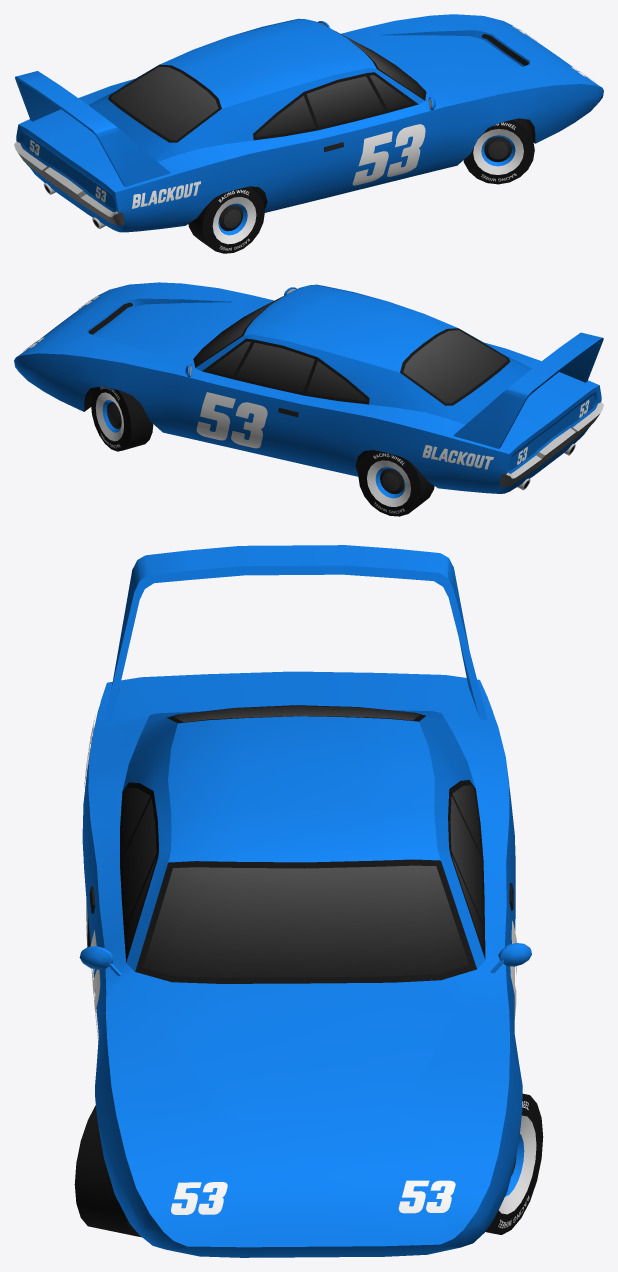
The model's file is RaceCar_018.glb.
3 renders of one model, top to bottom at view 1: azimuth 30°, elevation 25°; view 2: azimuth 150°, elevation 25°; view 3: azimuth 270°, elevation 25°, orthographic. The views are drawn at different scales.
Parts seen in each view (by area): view 1: RaceCar_018, wheel_3_RaceCar_018_Wheel_2R, wheel_1_RaceCar_018_Wheel_1R; view 2: RaceCar_018, wheel_2_RaceCar_018_Wheel_2L, wheel_0_RaceCar_018_Wheel_1L; view 3: RaceCar_018, wheel_1_RaceCar_018_Wheel_1R, wheel_0_RaceCar_018_Wheel_1L.
Part boxes in pixels (box(x1,y1,x2,y2)): RaceCar_018: box(14, 14, 603, 250); wheel_3_RaceCar_018_Wheel_2R: box(188, 186, 264, 253); wheel_1_RaceCar_018_Wheel_1R: box(463, 118, 534, 184); RaceCar_018: box(14, 282, 603, 513); wheel_2_RaceCar_018_Wheel_2L: box(358, 450, 434, 516); wheel_0_RaceCar_018_Wheel_1L: box(91, 386, 153, 451); RaceCar_018: box(79, 545, 531, 1257); wheel_1_RaceCar_018_Wheel_1R: box(74, 1105, 141, 1237); wheel_0_RaceCar_018_Wheel_1L: box(485, 1093, 543, 1234).
Size of the model in its own units: 5.81 by 1.56 by 2.27.
2 materials, 2 textured.
